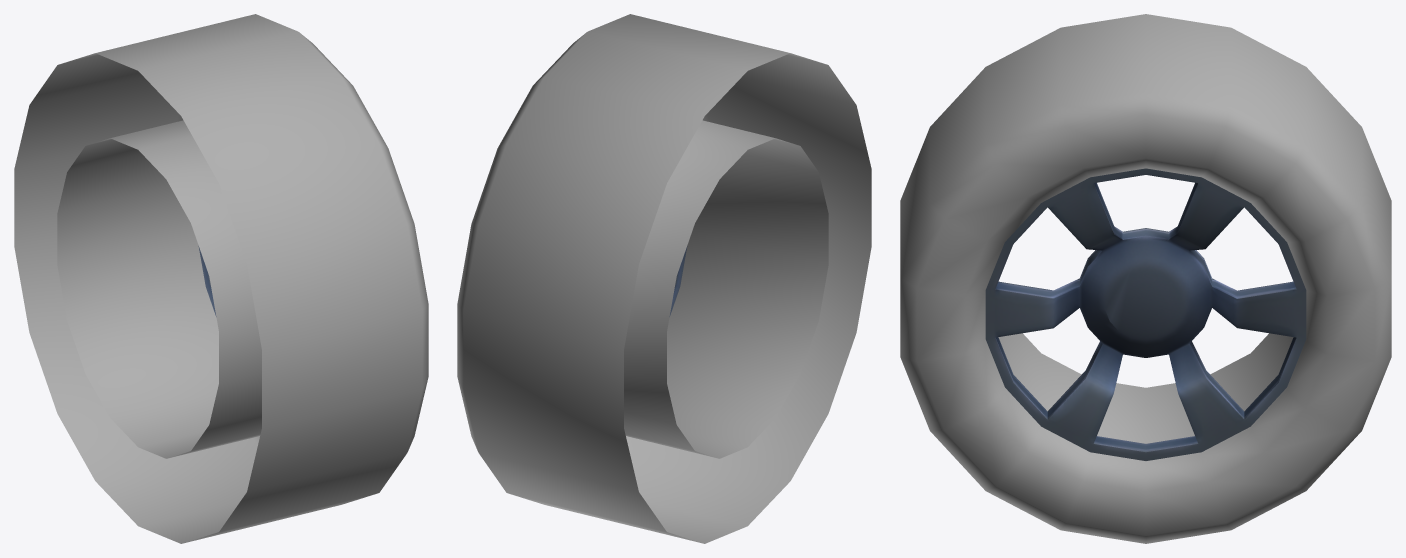
File: Silvia_wheel.fbx
The picture shows the model from 3 angles, left to right: view 1: azimuth 30°, elevation 25°; view 2: azimuth 150°, elevation 25°; view 3: azimuth 270°, elevation 25°; orthographic projection.
Parts seen in each view (by area): view 1: Nissan_silvia_s15_wheel.F_L; view 2: Nissan_silvia_s15_wheel.F_L; view 3: Nissan_silvia_s15_wheel.F_L.
Part boxes in pixels (x1,y1,x2,y2): Nissan_silvia_s15_wheel.F_L: [14, 14, 428, 543]; Nissan_silvia_s15_wheel.F_L: [457, 14, 871, 543]; Nissan_silvia_s15_wheel.F_L: [900, 14, 1391, 543].
Bounding box in the file's own units: 35.24 × 87.63 × 86.29.
Materials: 2 (1 with a texture image).
